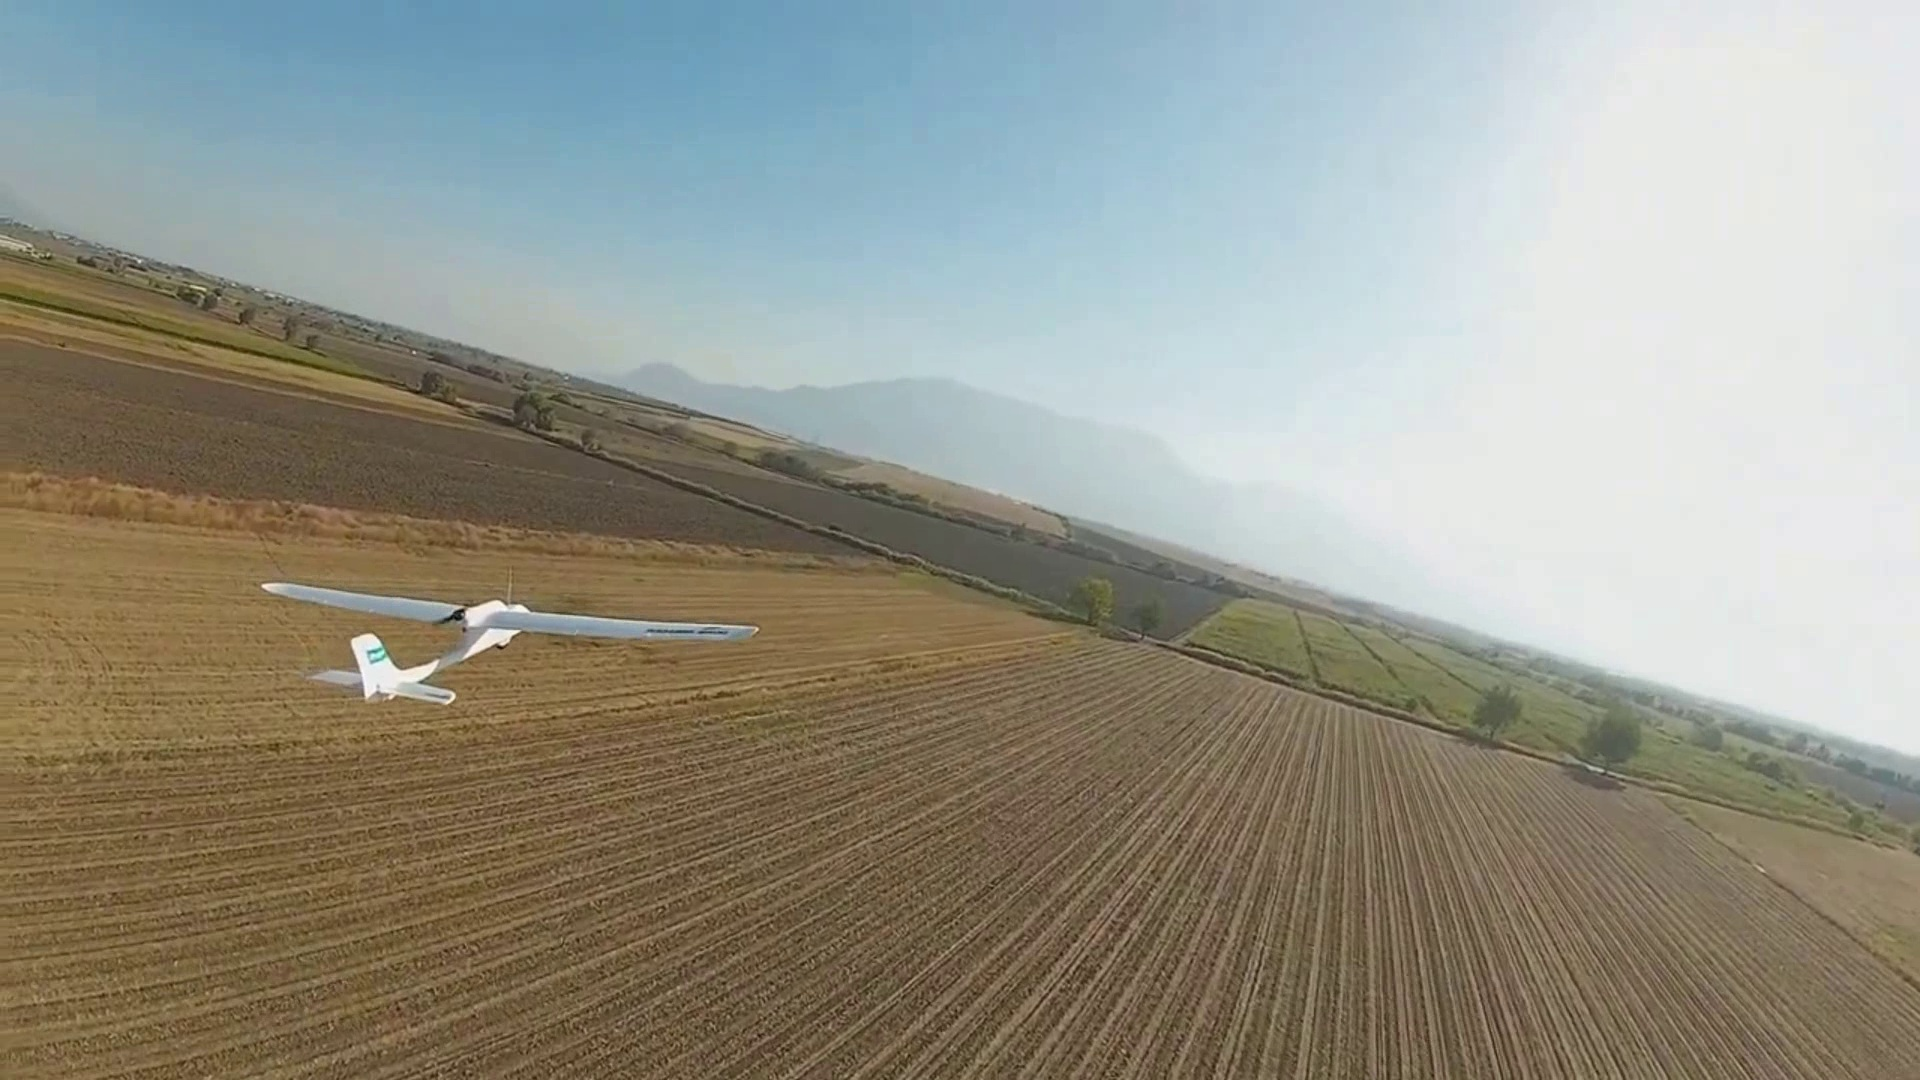airplane: (15, 267, 1918, 804), (258, 579, 758, 707)
